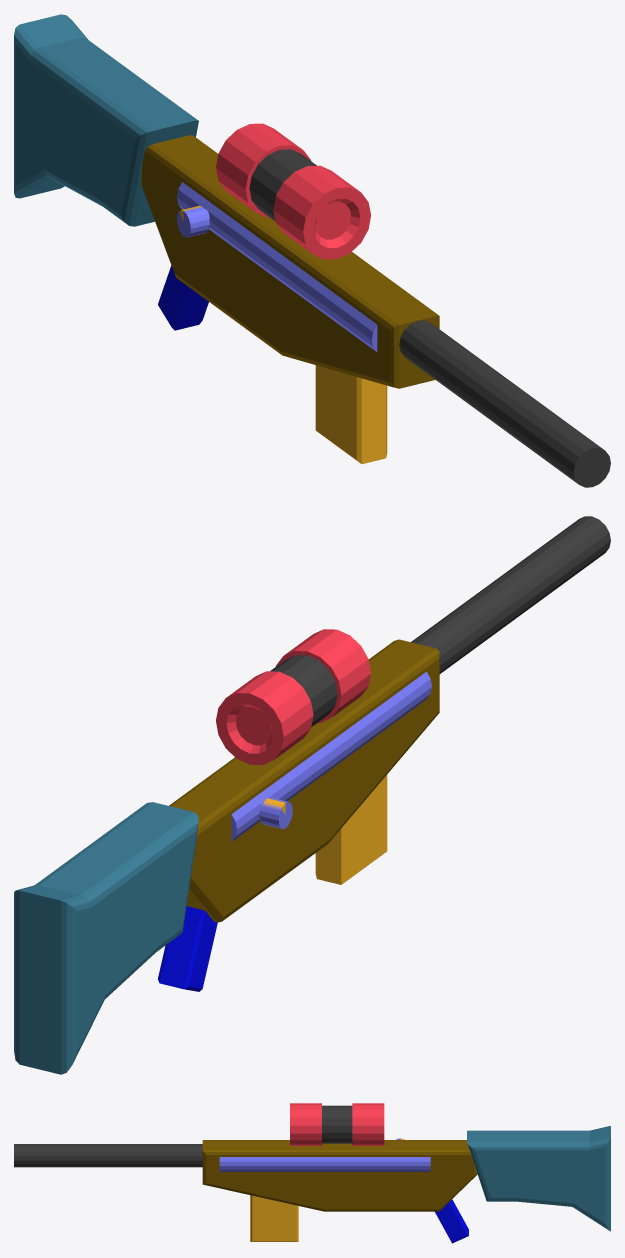
Rendered from sninperGun.fbx.
3 views of the same model, one above another, from view 1: azimuth 30°, elevation 25°; view 2: azimuth 150°, elevation 25°; view 3: azimuth 270°, elevation 25° (orthographic). The views are drawn at different scales.
Parts seen in each view (by area): view 1: Cube.064, Cube.066, Cylinder.034, Cylinder.040, Cube.065, Cylinder.037, Cylinder.036, Cylinder.035, Cube.067, Cylinder.038; view 2: Cube.066, Cube.064, Cylinder.034, Cylinder.036, Cylinder.037, Cube.065, Cylinder.040, Cube.067, Cylinder.035, Cylinder.038; view 3: Cube.064, Cube.066, Cylinder.034, Cylinder.037, Cube.065, Cylinder.036, Cylinder.040, Cylinder.035, Cube.067.
Boxes of the visible parts, x1=… form: Cube.064: x1=141, y1=135, x2=439, y2=388; Cube.066: x1=14, y1=14, x2=198, y2=226; Cylinder.034: x1=399, y1=320, x2=610, y2=487; Cylinder.040: x1=273, y1=165, x2=370, y2=259; Cube.065: x1=315, y1=365, x2=387, y2=464; Cylinder.037: x1=177, y1=182, x2=377, y2=351; Cylinder.036: x1=216, y1=123, x2=310, y2=217; Cylinder.035: x1=249, y1=149, x2=316, y2=221; Cube.067: x1=158, y1=265, x2=208, y2=330; Cylinder.038: x1=176, y1=205, x2=209, y2=237; Cube.066: x1=14, y1=802, x2=198, y2=1074; Cube.064: x1=169, y1=639, x2=439, y2=922; Cylinder.034: x1=411, y1=516, x2=610, y2=673; Cylinder.036: x1=216, y1=671, x2=313, y2=765; Cylinder.037: x1=231, y1=672, x2=431, y2=841; Cube.065: x1=315, y1=774, x2=387, y2=884; Cylinder.040: x1=275, y1=629, x2=370, y2=722; Cube.067: x1=158, y1=906, x2=217, y2=991; Cylinder.035: x1=270, y1=655, x2=337, y2=726; Cylinder.038: x1=260, y1=797, x2=292, y2=828; Cube.064: x1=202, y1=1140, x2=477, y2=1211; Cube.066: x1=467, y1=1126, x2=610, y2=1231; Cylinder.034: x1=14, y1=1144, x2=202, y2=1167; Cylinder.037: x1=219, y1=1157, x2=430, y2=1171; Cube.065: x1=250, y1=1195, x2=298, y2=1241; Cylinder.036: x1=352, y1=1103, x2=384, y2=1145; Cylinder.040: x1=290, y1=1103, x2=321, y2=1145; Cylinder.035: x1=322, y1=1105, x2=352, y2=1143; Cube.067: x1=435, y1=1199, x2=468, y2=1243.
Size of the model in its own units: 5.5 by 1.37 by 0.4895.
